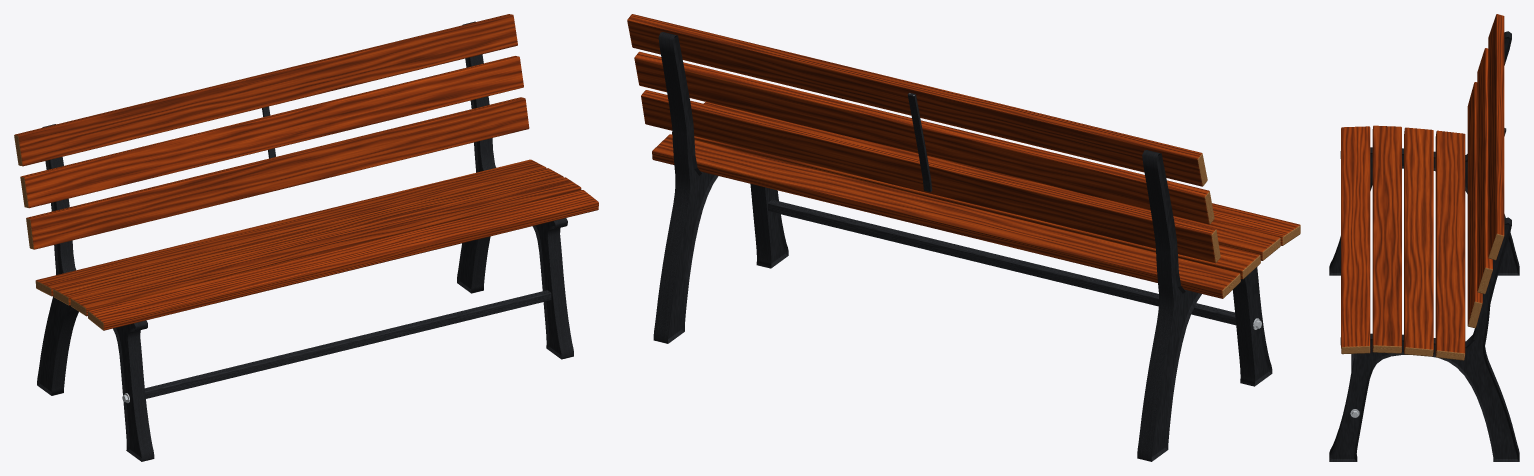
Rendered from ParkBench.fbx.
The picture shows the model from 3 angles, left to right: view 1: azimuth 30°, elevation 25°; view 2: azimuth 150°, elevation 25°; view 3: azimuth 270°, elevation 25°; orthographic projection. The views are drawn at different scales.
Visible parts, largest first — view 1: ParkBench; view 2: ParkBench; view 3: ParkBench.
Boxes of the visible parts, bbox=[...] form: ParkBench: bbox=[14, 14, 598, 461]; ParkBench: bbox=[627, 14, 1300, 461]; ParkBench: bbox=[1329, 14, 1519, 461].
Bounding box in the file's own units: 150 × 77.1 × 54.8.
Materials: 1 (1 with a texture image).
